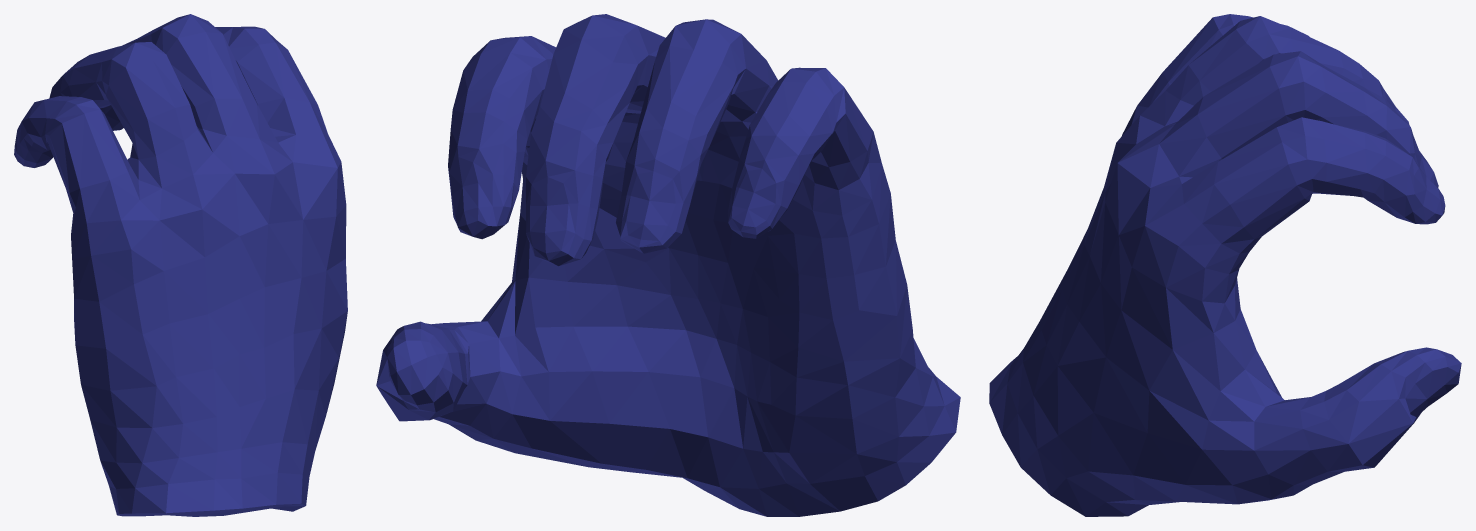
The picture shows the model from 3 angles, left to right: view 1: azimuth 30°, elevation 25°; view 2: azimuth 150°, elevation 25°; view 3: azimuth 270°, elevation 25°; orthographic projection. The views are drawn at different scales.
Bounding box in the file's own units: 0.1028 × 0.134 × 0.1215.
